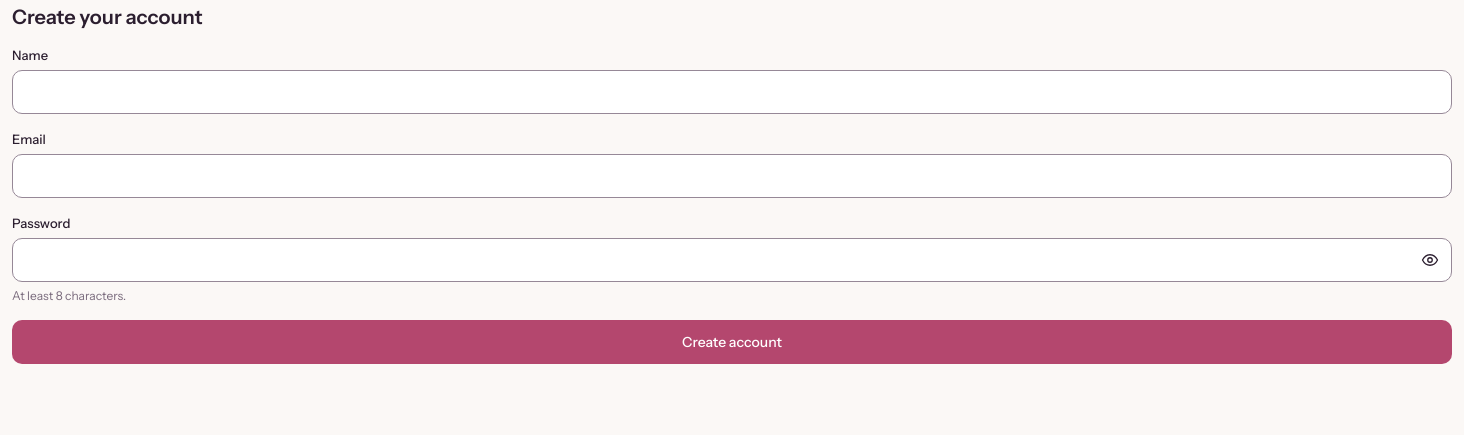
error messages › USER_ALREADY_EXISTS_USE_ANOTHER_EMAIL
This screenshot has width=1464, height=435.
Type "Ana" into the field labelled "Name" at (732, 92), box 12,70 -> 1452,114
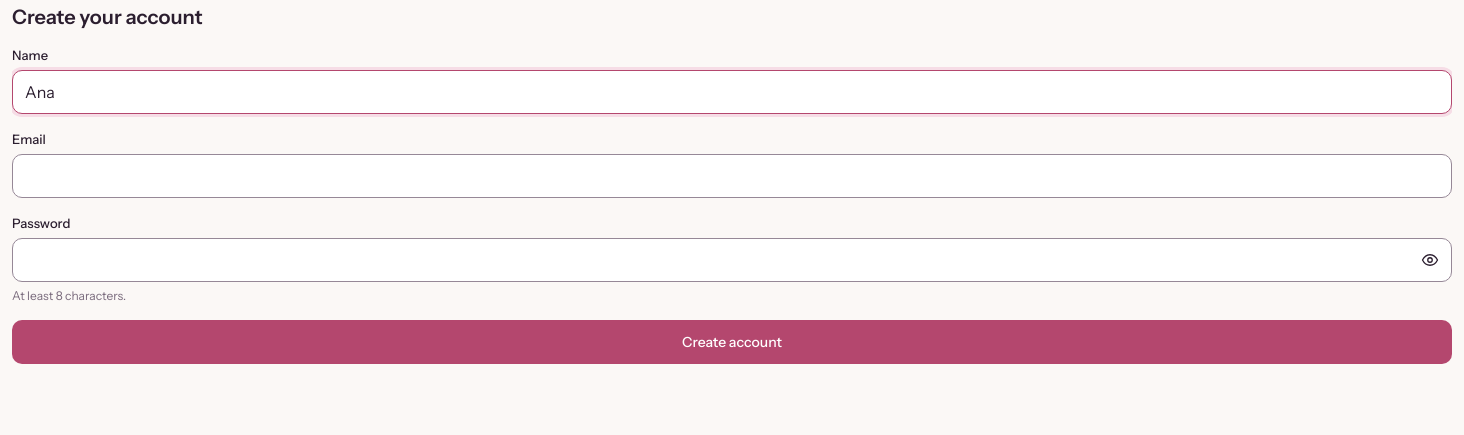
Type "ana@example.com" into the field labelled "Email" at (732, 176), box 12,154 -> 1452,198
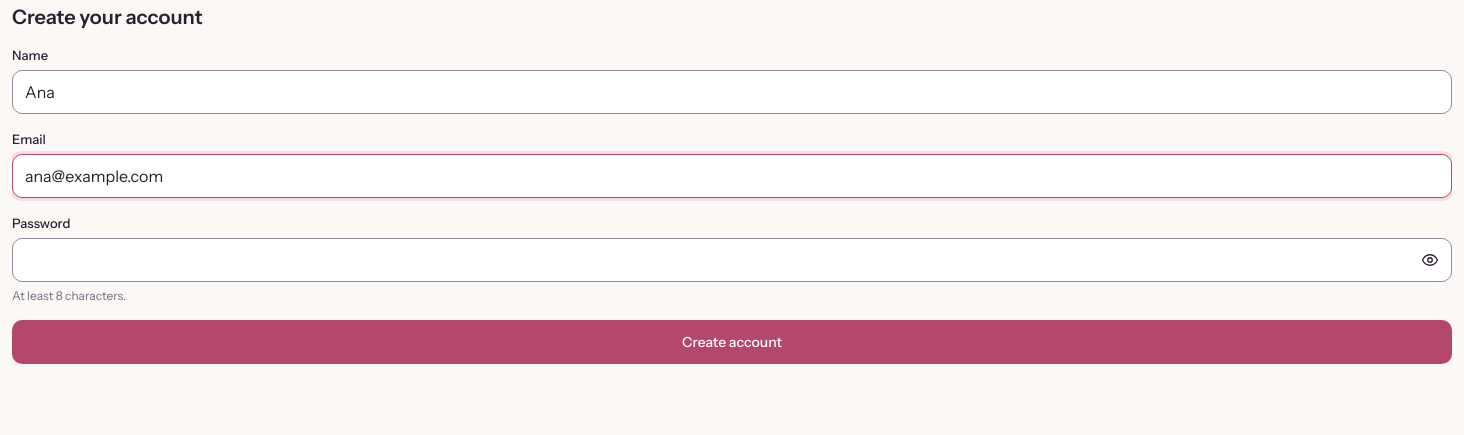
Type "pas-de-deux" into the password field labelled "Password" at (732, 260), box 12,238 -> 1452,282
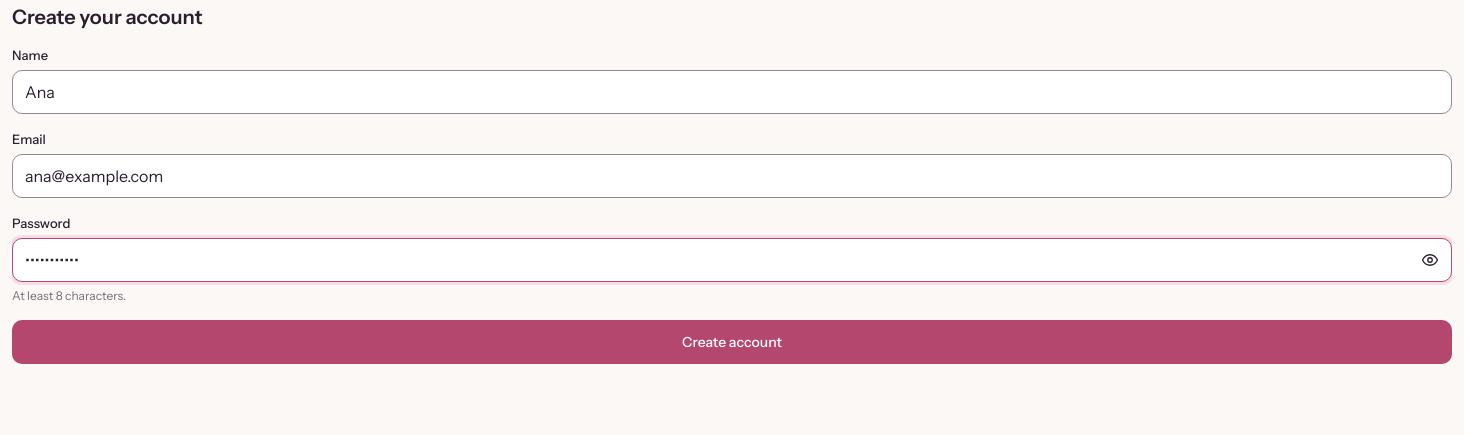
Click the button "Create account" at (732, 342), box 12,320 -> 1452,364
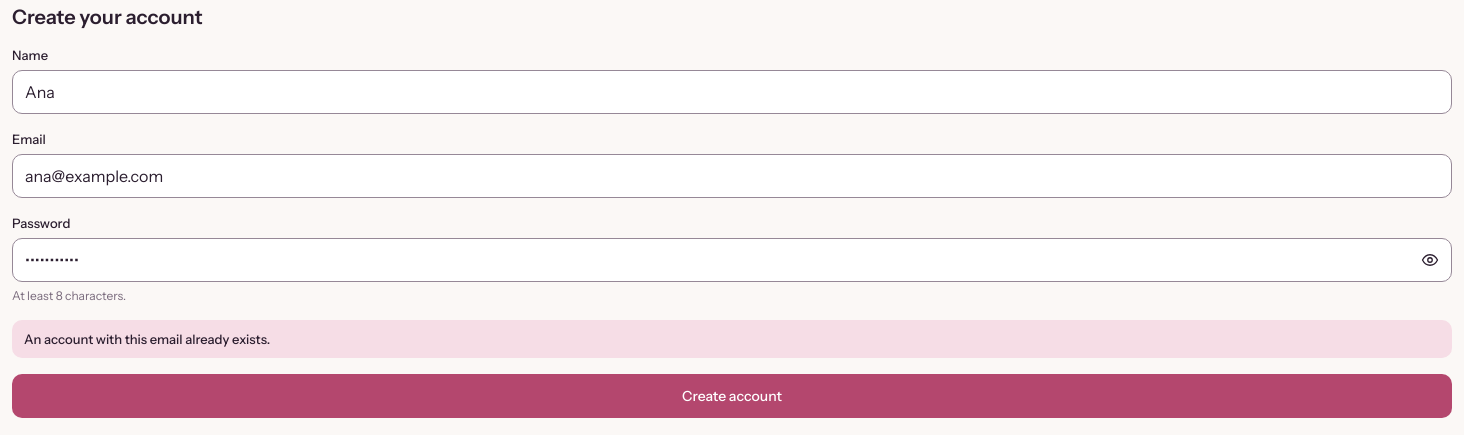
expect the message reads "An account with this email already exists.": met, box 24,331 -> 270,347
